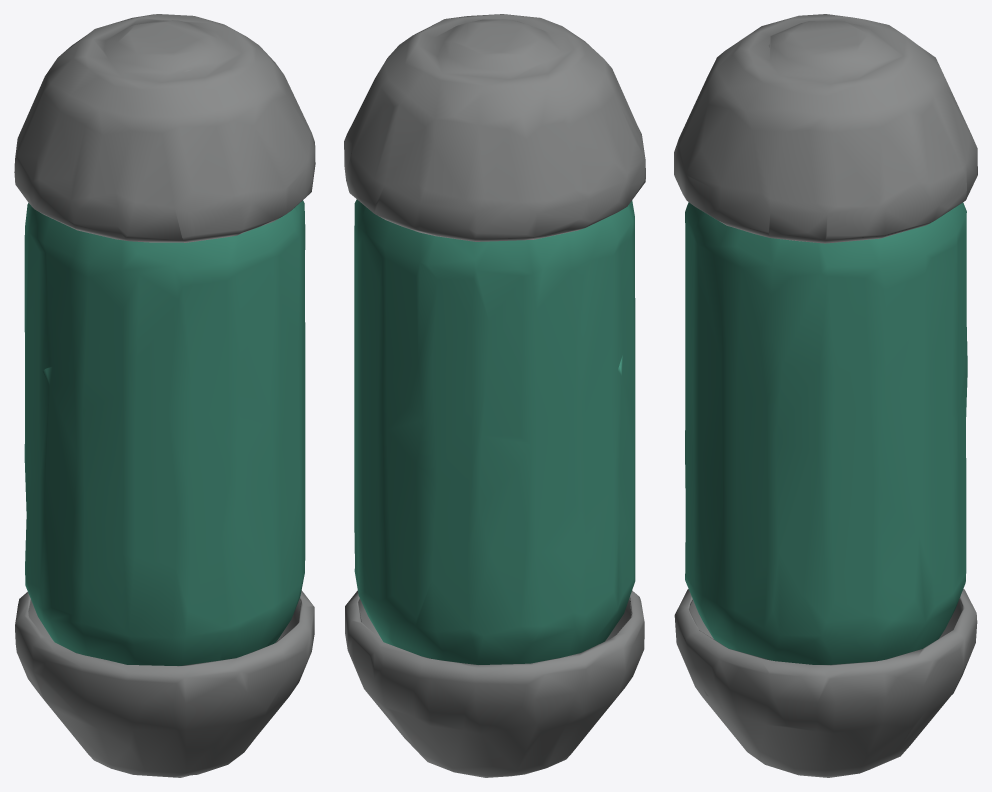
The model's file is gen3d-energy-capsule-lod0.glb.
3 views of the same model, side by side, from view 1: azimuth 30°, elevation 25°; view 2: azimuth 150°, elevation 25°; view 3: azimuth 270°, elevation 25° (orthographic).
Visible parts, largest first — view 1: part_0; view 2: part_0; view 3: part_0.
Part boxes in pixels (<box>): part_0: <box>14,14,315,777</box>; part_0: <box>344,14,645,777</box>; part_0: <box>674,14,977,777</box>.
Bounding box in the file's own units: 0.385 × 1 × 0.3847.
